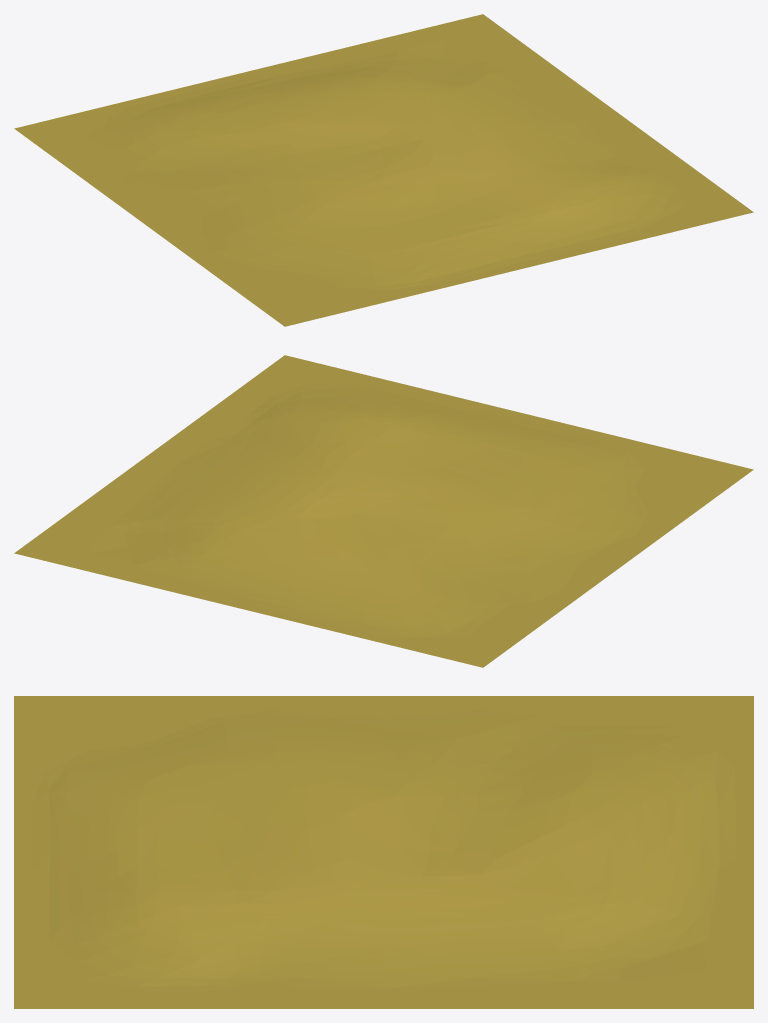
File: Terrain_11.glb
3 renders of one model, top to bottom at view 1: azimuth 30°, elevation 25°; view 2: azimuth 150°, elevation 25°; view 3: azimuth 270°, elevation 25°, orthographic. The views are drawn at different scales.
Visible parts, largest first — view 1: Terrain_11; view 2: Terrain_11; view 3: Terrain_11.
Part boxes in pixels (box(x1,y1,x2,y2)): Terrain_11: box(14, 14, 753, 326); Terrain_11: box(14, 355, 753, 667); Terrain_11: box(14, 696, 753, 1008).
Bounding box in the file's own units: 128 × 2.47 × 128.
Materials: 1 (1 with a texture image).
